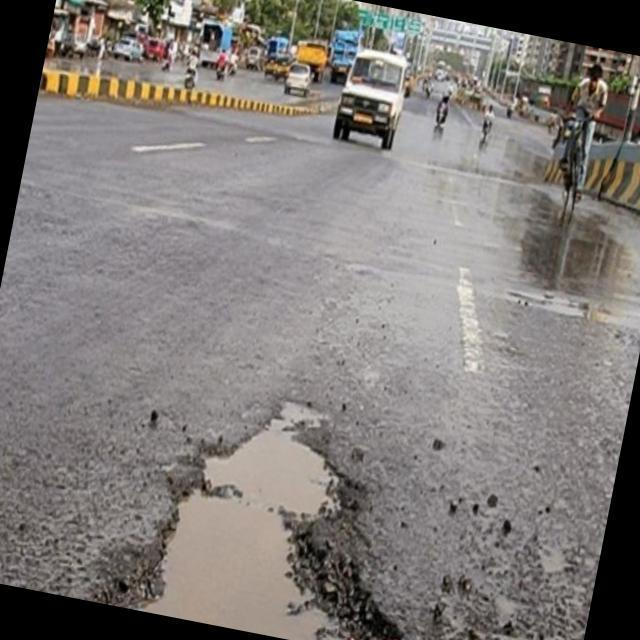Pothole: (139, 431, 339, 640)
